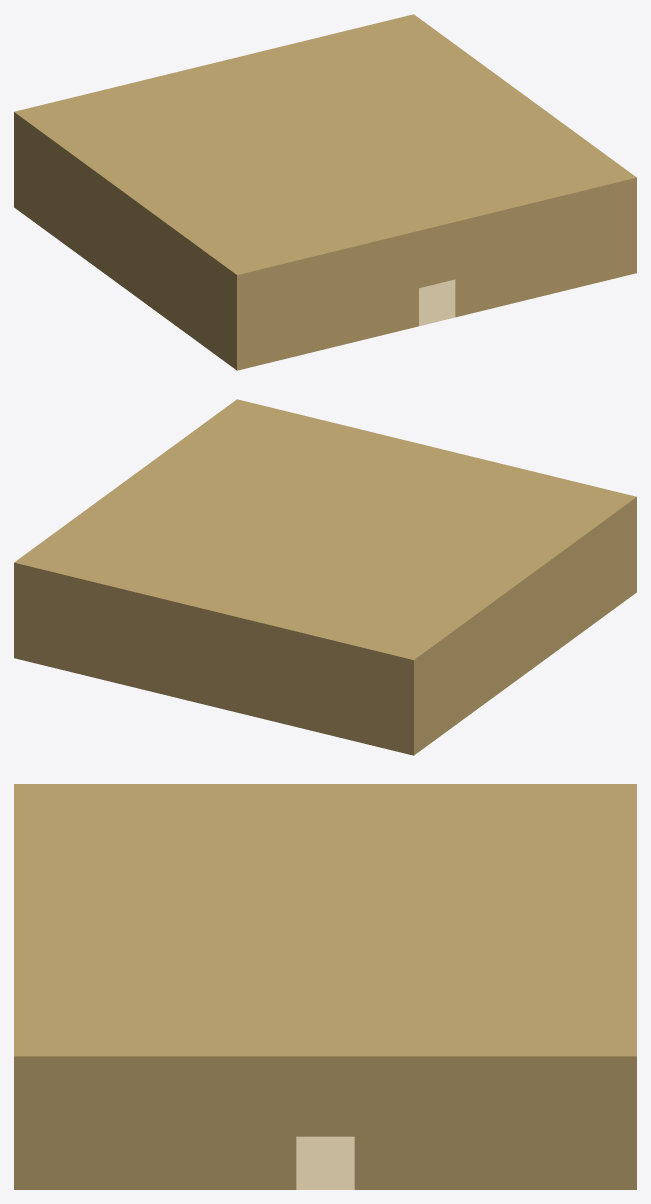
File: Room006.fbx
The picture shows the model from 3 angles, top to bottom: view 1: azimuth 30°, elevation 25°; view 2: azimuth 150°, elevation 25°; view 3: azimuth 270°, elevation 25°; orthographic projection. The views are drawn at different scales.
Parts seen in each view (by area): view 1: Cube; view 2: Cube; view 3: Cube.
Boxes of the visible parts, x1,y1,x2,y2 form: Cube: (14, 14, 636, 370); Cube: (14, 399, 636, 755); Cube: (14, 784, 636, 1189).
Bounding box in the file's own units: 4397 × 1004 × 4251.
